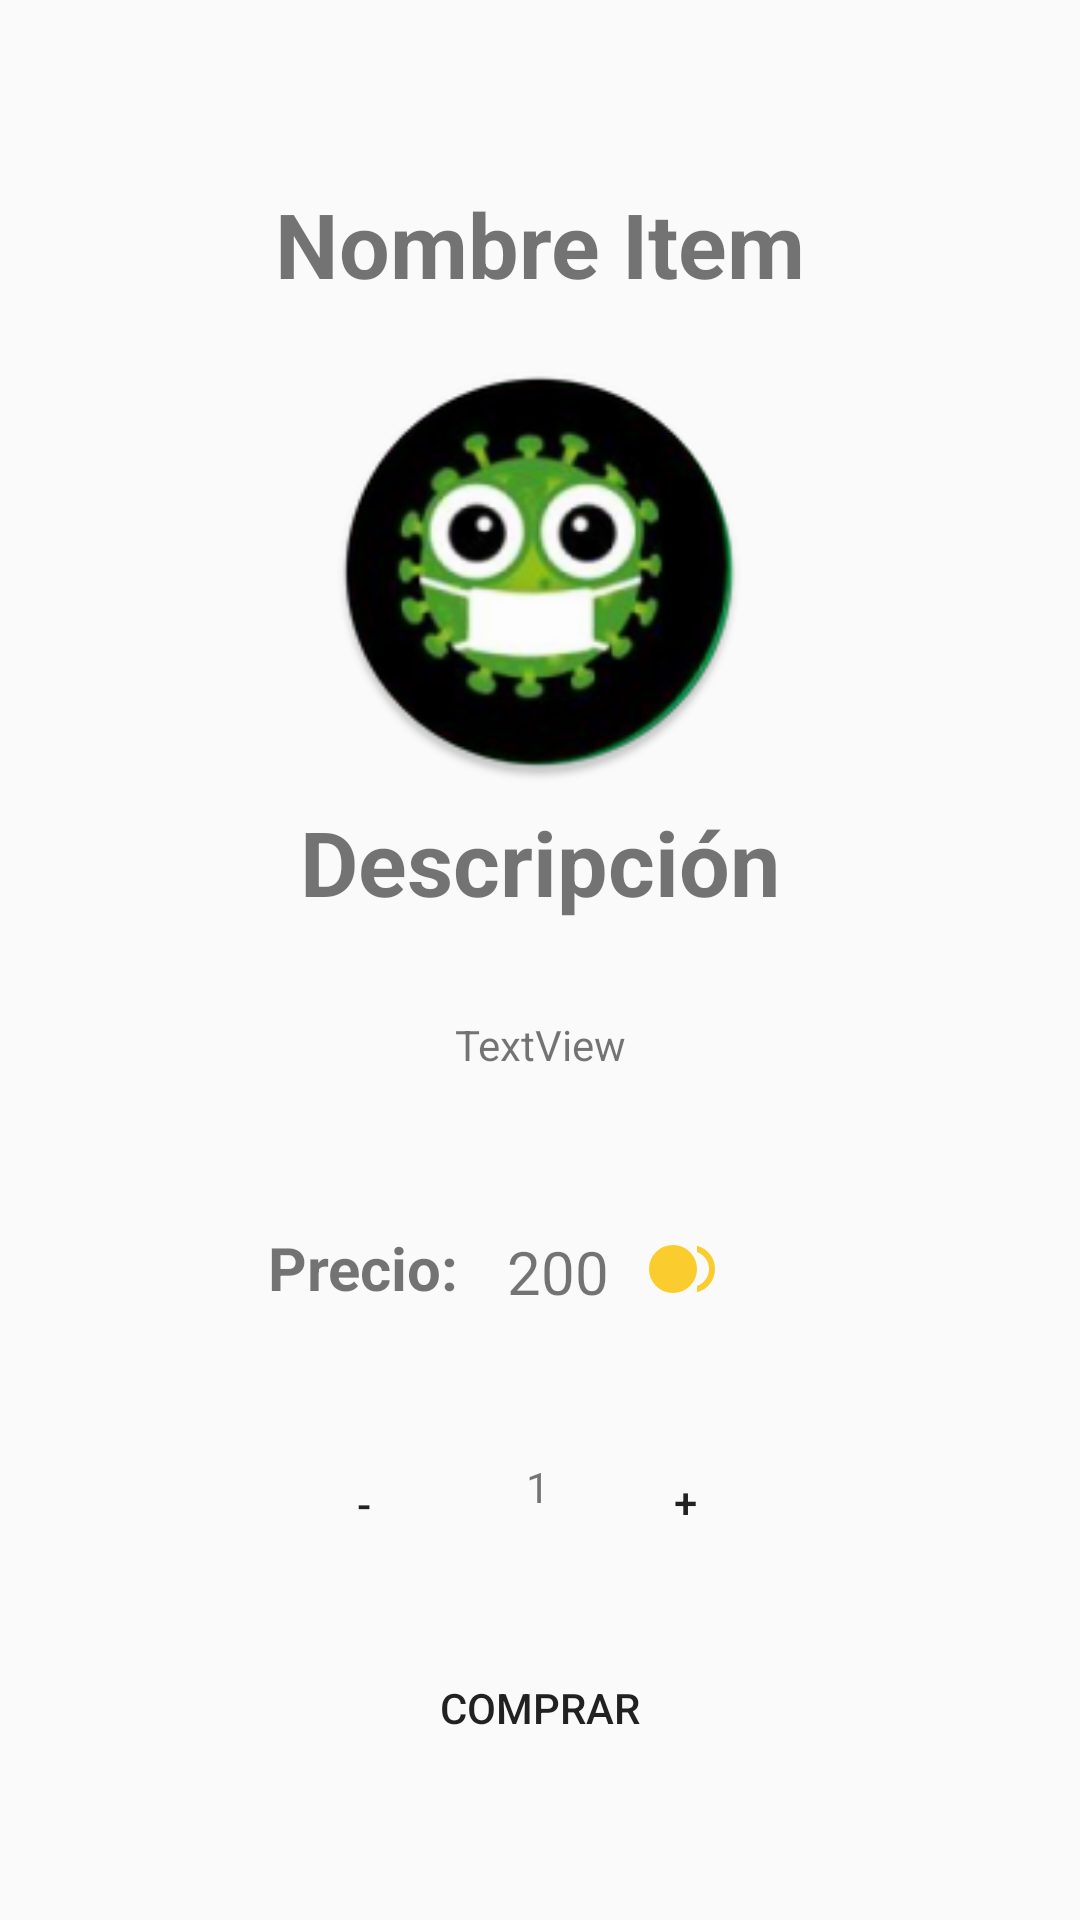

Icons on this 1080*1920 Android screen, each with the point to tap as [x,y]:
moneda naranja: [682,1269]
